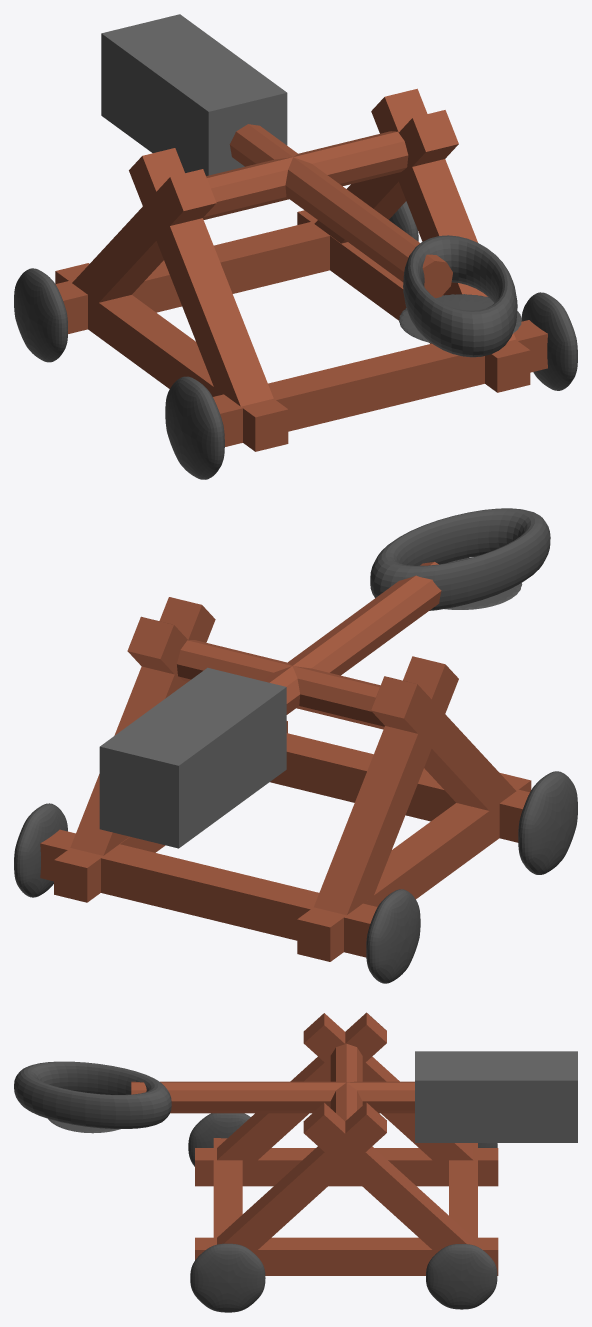
Rendered from catapult.fbx.
The picture shows the model from 3 angles, top to bottom: view 1: azimuth 30°, elevation 25°; view 2: azimuth 150°, elevation 25°; view 3: azimuth 270°, elevation 25°; orthographic projection. The views are drawn at different scales.
Parts seen in each view (by area): view 1: Cube.008, Cube.001, Cube.004, Torus, Cylinder, Cube.002, Cube, Cube.005, Cylinder.001, Cube.006, Cube.003, Cylinder.003 (+4 smaller); view 2: Cube.008, Cube, Cube.005, Torus, Cube.002, Cylinder, Cube.004, Cube.001, Cylinder.001, Cube.007, Cylinder.003, Cylinder.004 (+4 smaller); view 3: Cube.008, Torus, Cylinder, Cube.003, Cube.006, Cube.007, Cube.002, Cube.004, Cylinder.002, Cylinder.005, Cube.005, Cube.001 (+3 smaller).
Part boxes in pixels (x1,y1,x2,y2): Cube.008: [101, 14, 287, 175]; Cube.001: [213, 320, 547, 446]; Cube.004: [129, 148, 273, 406]; Torus: [403, 235, 517, 357]; Cylinder: [229, 124, 452, 298]; Cube.002: [55, 263, 288, 451]; Cube: [55, 220, 329, 333]; Cube.005: [72, 169, 216, 302]; Cylinder.001: [203, 131, 408, 219]; Cube.006: [371, 88, 515, 341]; Cube.003: [297, 210, 530, 392]; Cylinder.003: [165, 376, 224, 479]; Cube.008: [99, 667, 286, 848]; Cube: [40, 829, 377, 957]; Cube.005: [314, 656, 458, 915]; Torus: [370, 508, 550, 610]; Cube.002: [297, 773, 531, 961]; Cylinder: [262, 562, 441, 714]; Cube.004: [371, 676, 516, 810]; Cube.001: [270, 733, 529, 842]; Cylinder.001: [176, 640, 384, 729]; Cube.007: [70, 597, 215, 855]; Cylinder.003: [518, 771, 577, 874]; Cylinder.004: [366, 889, 420, 983]; Cube.008: [415, 1051, 577, 1142]; Torus: [14, 1061, 171, 1128]; Cylinder: [131, 1081, 414, 1113]; Cube.003: [195, 1237, 498, 1275]; Cube.006: [217, 1102, 386, 1252]; Cube.007: [303, 1102, 473, 1253]; Cube.002: [195, 1148, 498, 1186]; Cube.004: [217, 1012, 386, 1173]; Cylinder.002: [190, 1243, 265, 1312]; Cylinder.005: [426, 1244, 497, 1309]; Cube.005: [303, 1013, 473, 1174]; Cube.001: [213, 1138, 242, 1245].
Size of the model in its own units: 966 by 591 by 1636.
